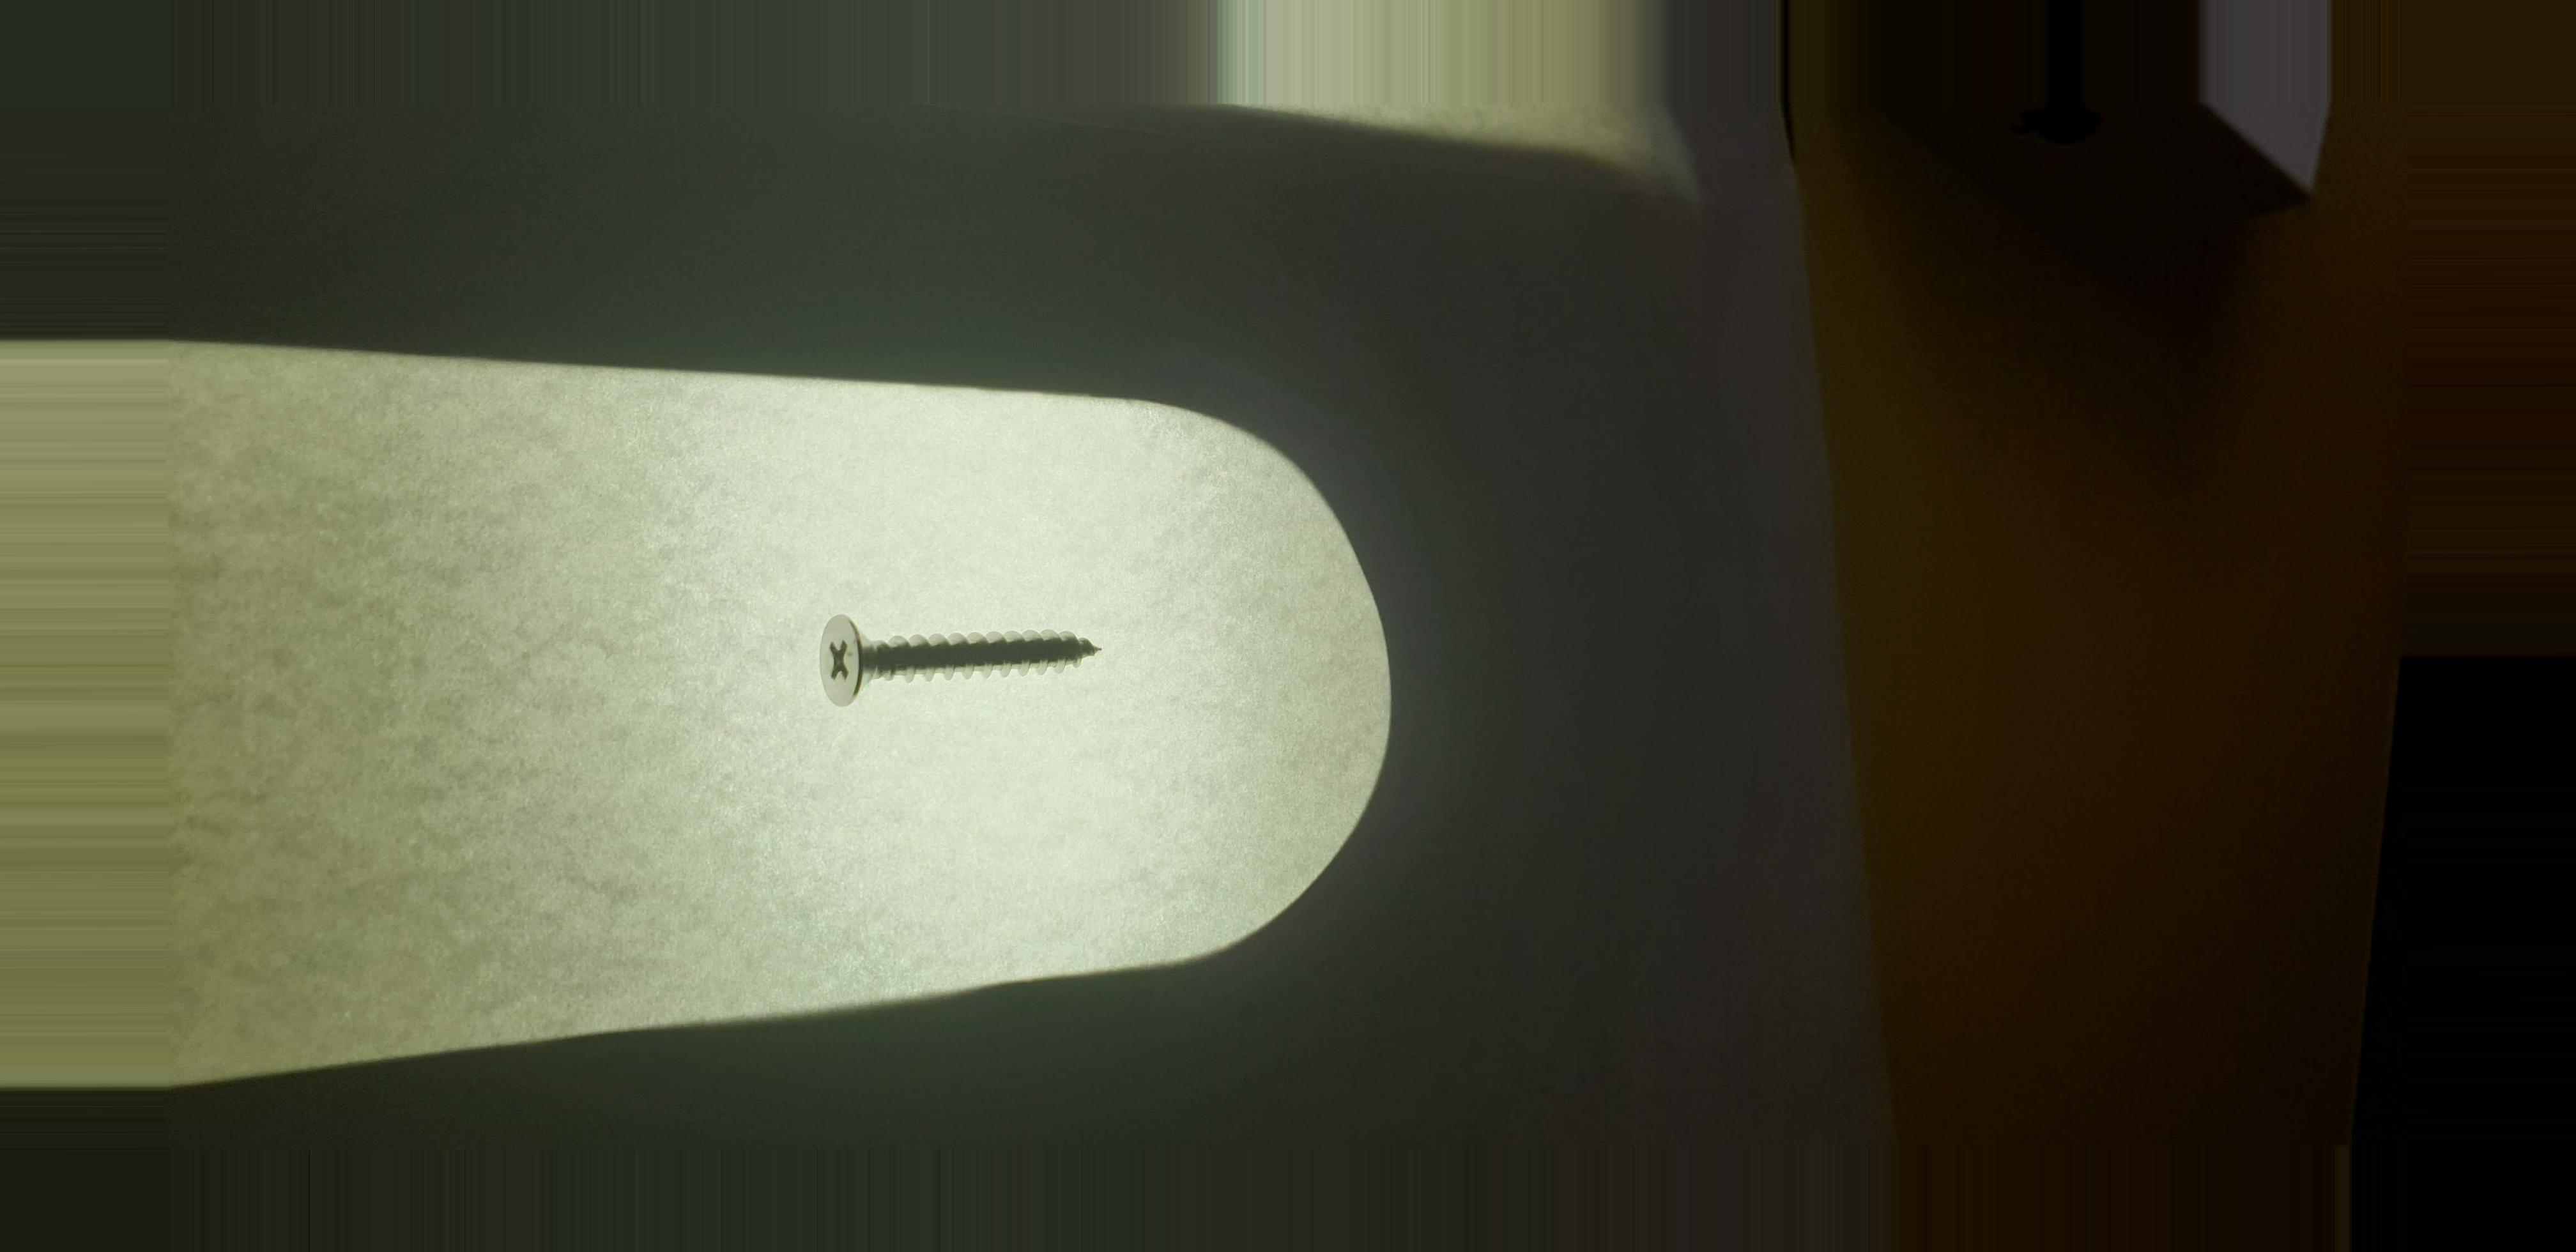S004: (766, 568, 1157, 721)
